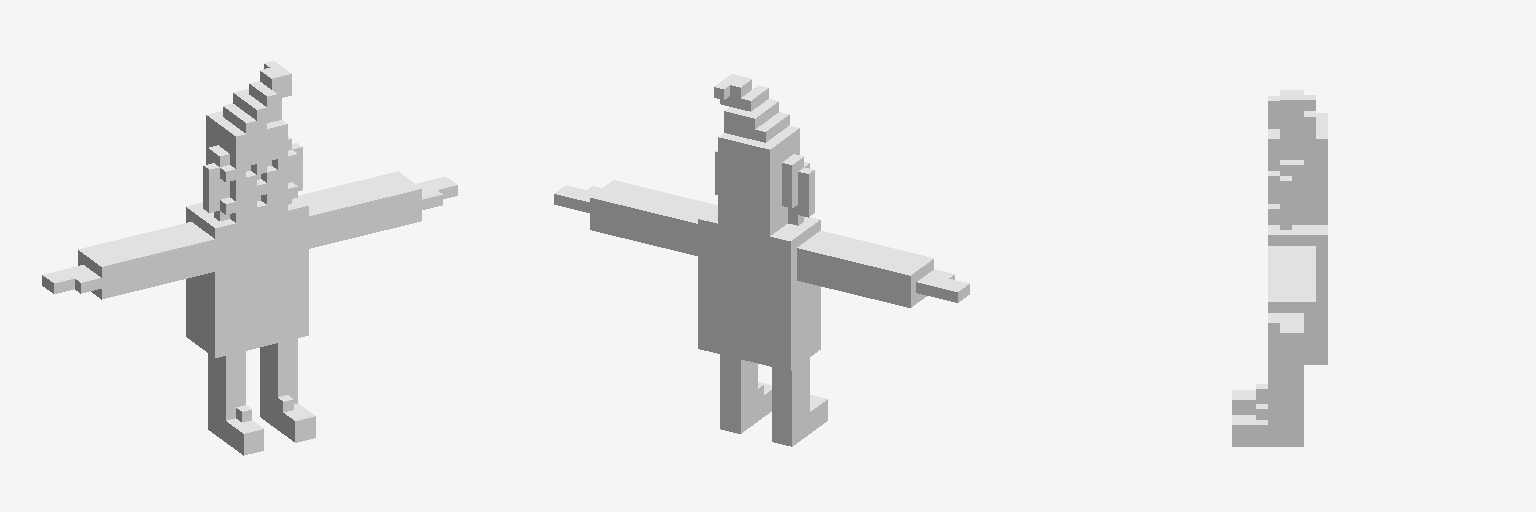
The model's file is santa.obj.
3 renders of one model, left to right at view 1: azimuth 30°, elevation 25°; view 2: azimuth 150°, elevation 25°; view 3: azimuth 270°, elevation 25°, orthographic.
Parts seen in each view (by area): view 1: santa; view 2: santa; view 3: santa.
Boxes of the visible parts, <box> form: santa: <box>42,61,457,455</box>; santa: <box>554,74,969,446</box>; santa: <box>1232,90,1327,446</box>.
Bounding box in the file's own units: 39 × 32 × 8.